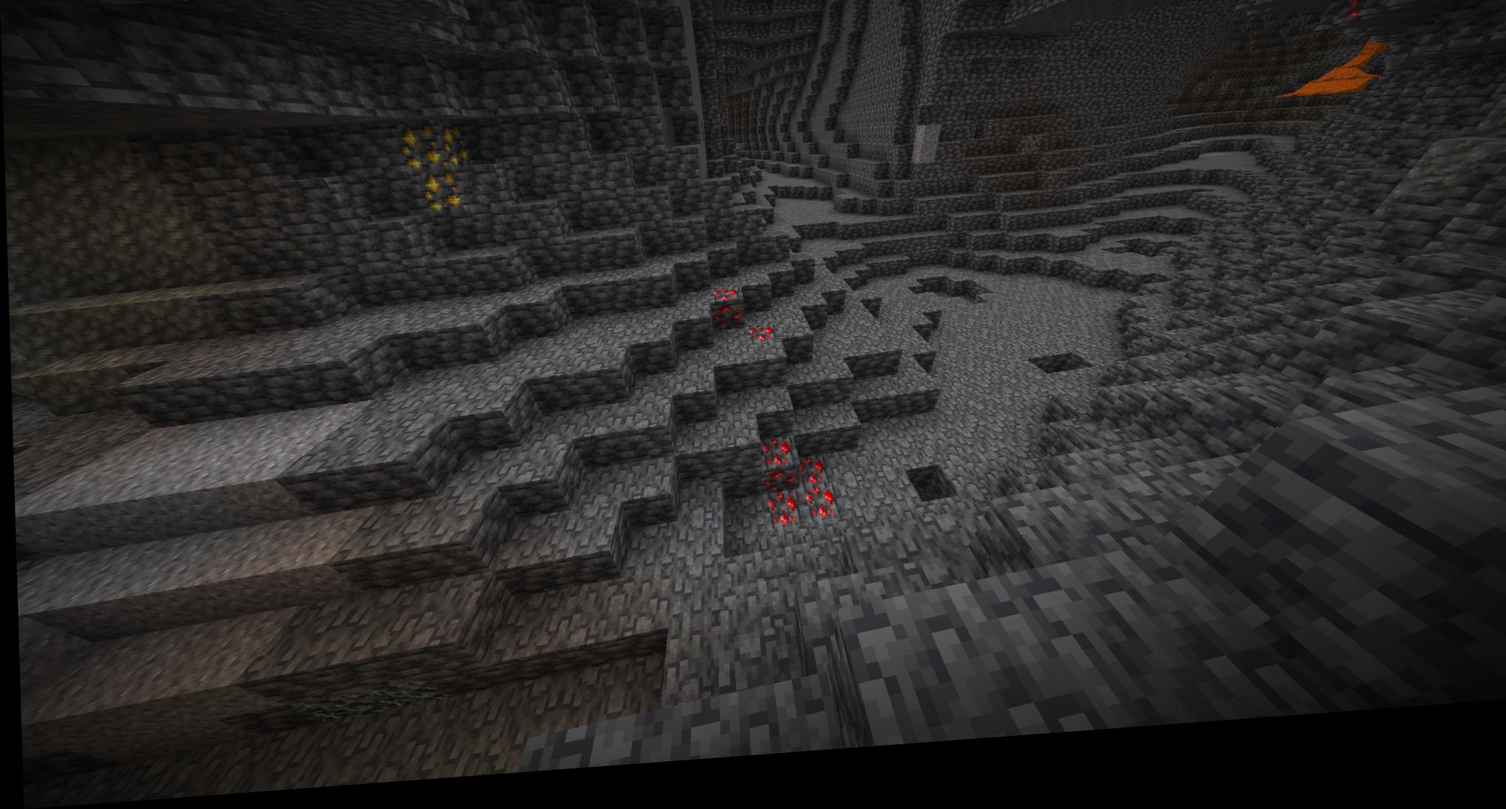gold ore: (401, 126, 440, 181), (414, 178, 461, 222), (430, 131, 469, 177)
redstone ore: (710, 300, 746, 343), (793, 468, 826, 506), (759, 475, 799, 505), (763, 505, 793, 542), (799, 504, 831, 535), (761, 448, 788, 479), (749, 333, 772, 357)
